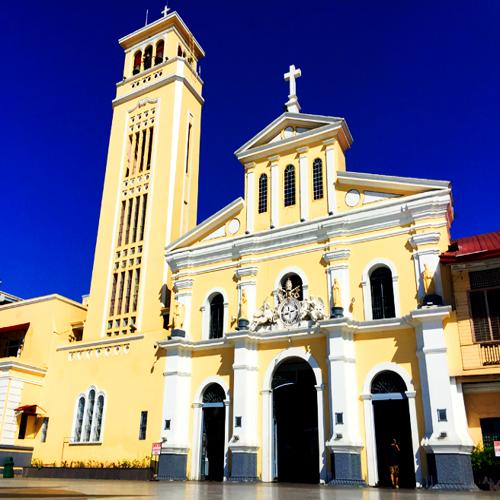Manaoag Church: (94, 6, 461, 490)
